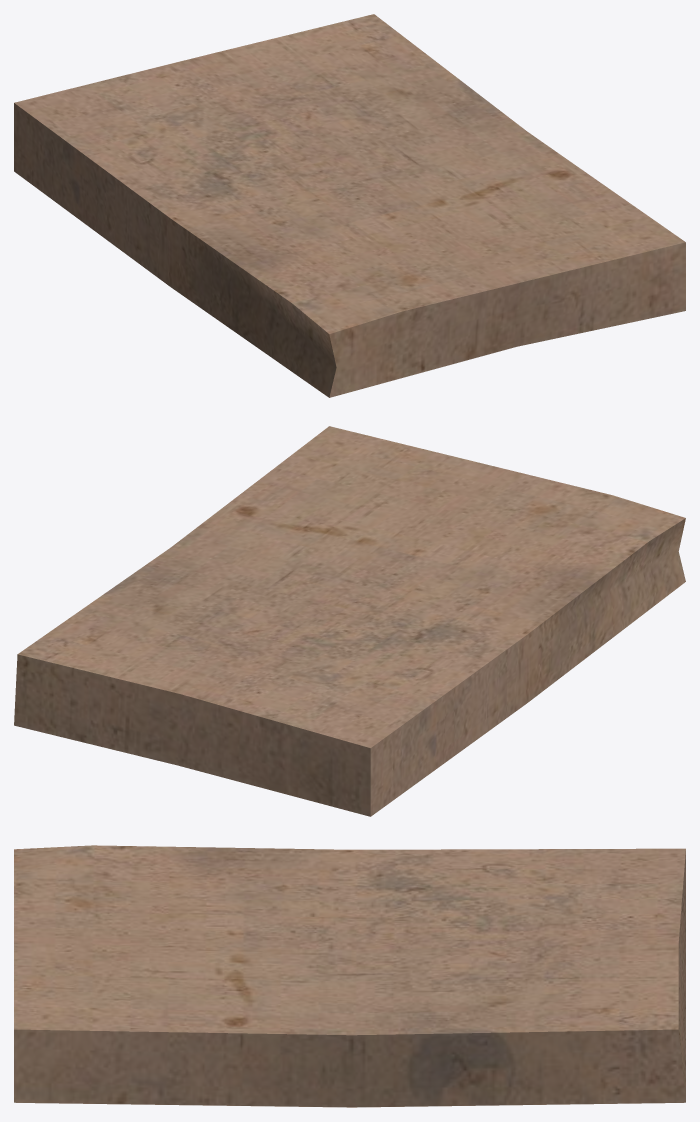
Rendered from SM_Cardboard_Evidence_Top.glb.
The picture shows the model from 3 angles, top to bottom: view 1: azimuth 30°, elevation 25°; view 2: azimuth 150°, elevation 25°; view 3: azimuth 270°, elevation 25°; orthographic projection. The views are drawn at different scales.
Visible parts, largest first — view 1: SM_Cardboard_Evidence_Top; view 2: SM_Cardboard_Evidence_Top; view 3: SM_Cardboard_Evidence_Top.
Part boxes in pixels (x1=…): SM_Cardboard_Evidence_Top: x1=14, y1=14, x2=685, y2=397; SM_Cardboard_Evidence_Top: x1=14, y1=426, x2=685, y2=816; SM_Cardboard_Evidence_Top: x1=14, y1=845, x2=685, y2=1107.
Size of the model in its own units: 0.2995 by 0.0602 by 0.4586.
1 material, 1 textured.
